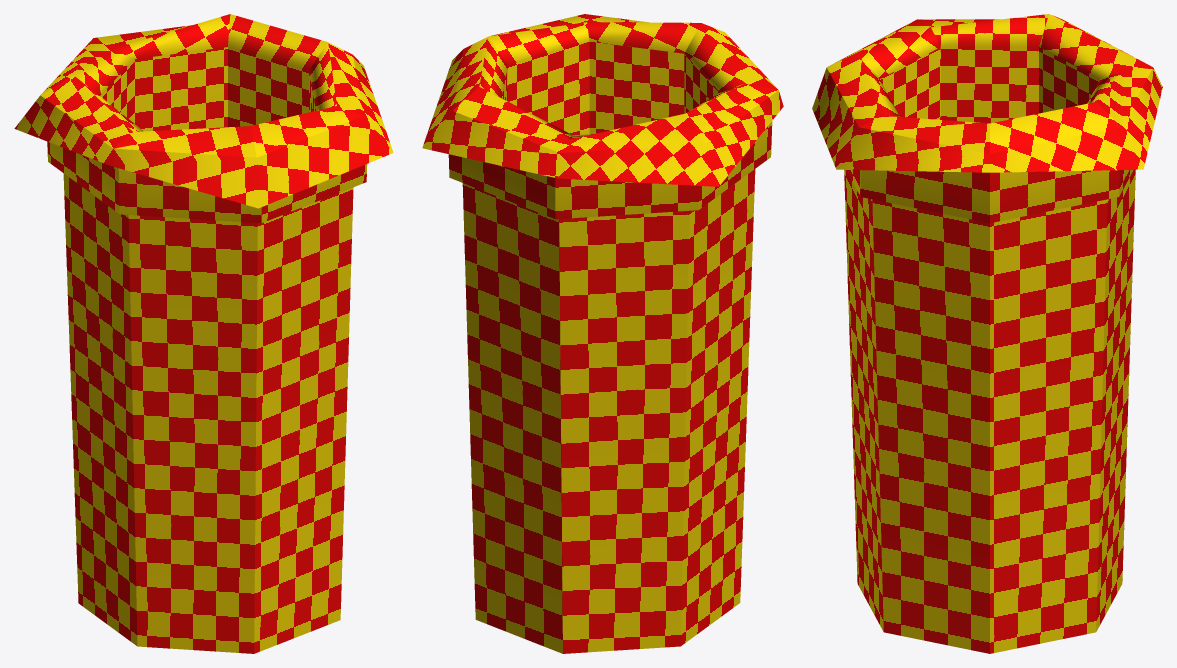
File: Garbage_Bin.fbx
The picture shows the model from 3 angles, left to right: view 1: azimuth 30°, elevation 25°; view 2: azimuth 150°, elevation 25°; view 3: azimuth 270°, elevation 25°; orthographic projection.
Parts seen in each view (by area): view 1: pCylinder3; view 2: pCylinder3; view 3: pCylinder3.
Boxes of the visible parts, x1=… form: pCylinder3: x1=14, y1=14, x2=393, y2=653; pCylinder3: x1=422, y1=14, x2=783, y2=653; pCylinder3: x1=812, y1=14, x2=1162, y2=653.
Bounding box in the file's own units: 0.2081 × 0.3431 × 0.2064.
Materials: 1 (1 with a texture image).
